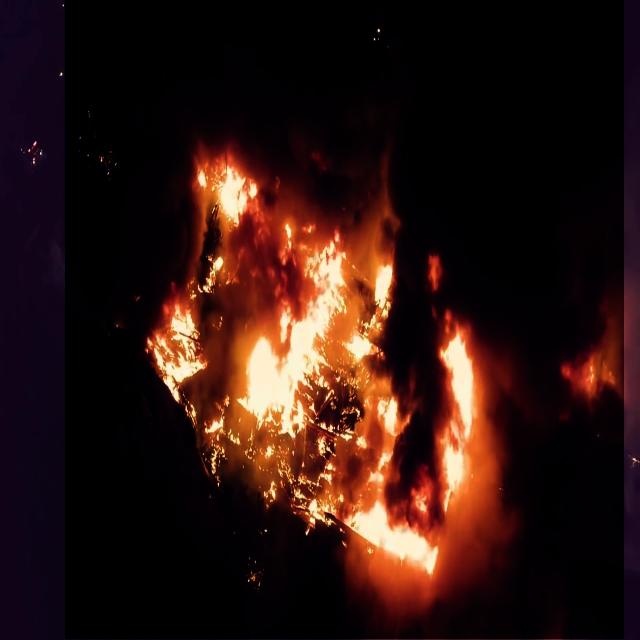Fire: (119, 147, 617, 598)
Smoke: (65, 0, 624, 639)
